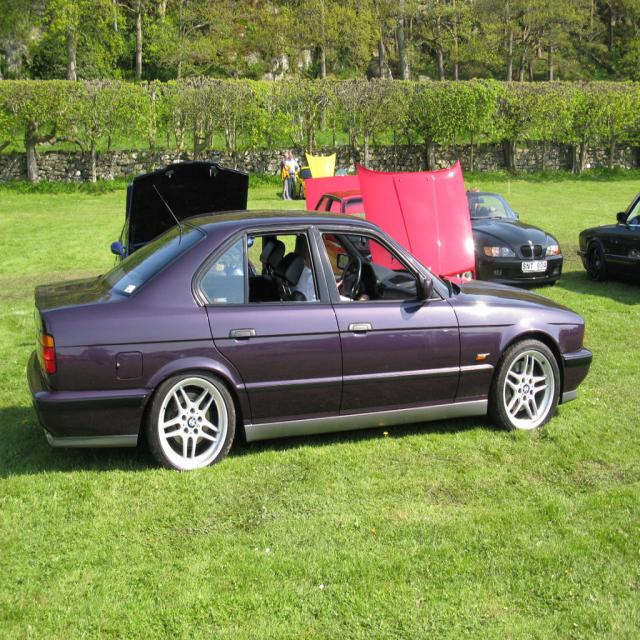car: (19, 208, 586, 472)
